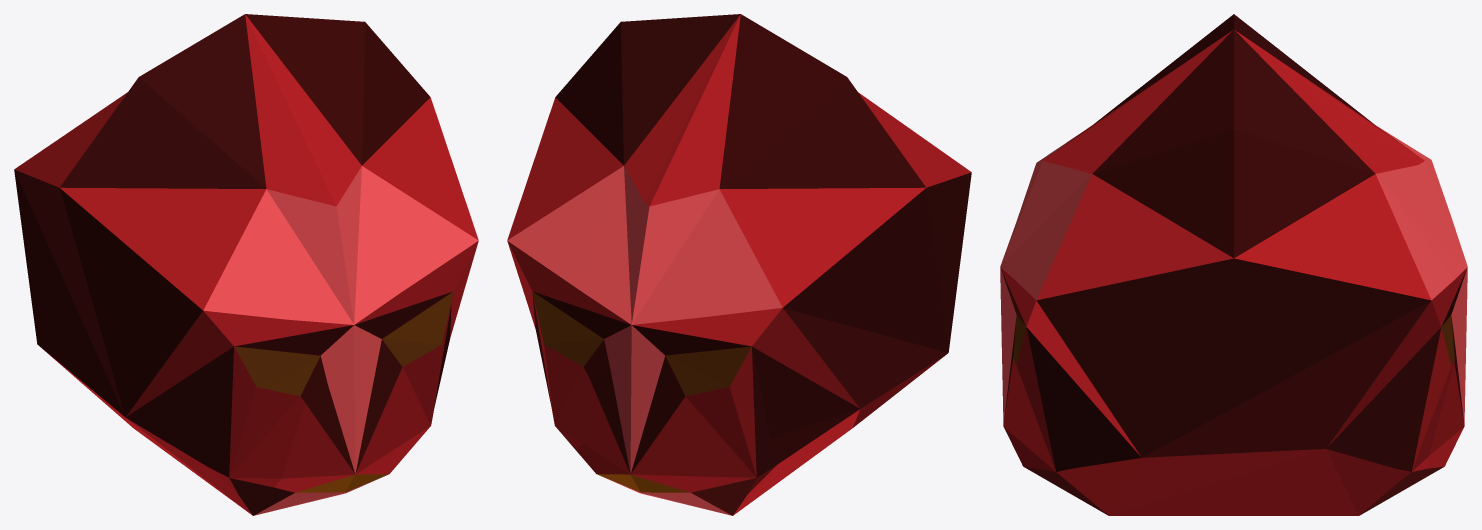
The picture shows the model from 3 angles, left to right: view 1: azimuth 30°, elevation 25°; view 2: azimuth 150°, elevation 25°; view 3: azimuth 270°, elevation 25°; orthographic projection. The views are drawn at different scales.
Visible parts, largest first — view 1: ss3d_66_cyberguard; view 2: ss3d_66_cyberguard; view 3: ss3d_66_cyberguard.
Boxes of the visible parts, bbox=[...] form: ss3d_66_cyberguard: bbox=[14, 14, 478, 515]; ss3d_66_cyberguard: bbox=[507, 14, 971, 515]; ss3d_66_cyberguard: bbox=[1000, 14, 1467, 515].
Bounding box in the file's own units: 0.4781 × 0.5484 × 0.4992.
Materials: 1 (1 with a texture image).
